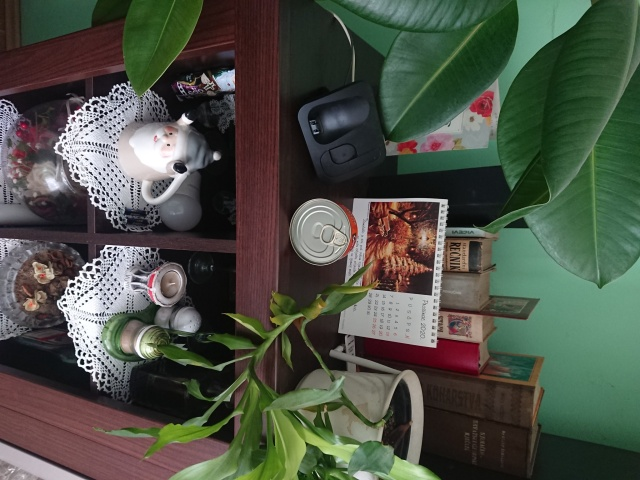Gavrilovic Pork Liver Pate 100g: (286, 195, 359, 268)
